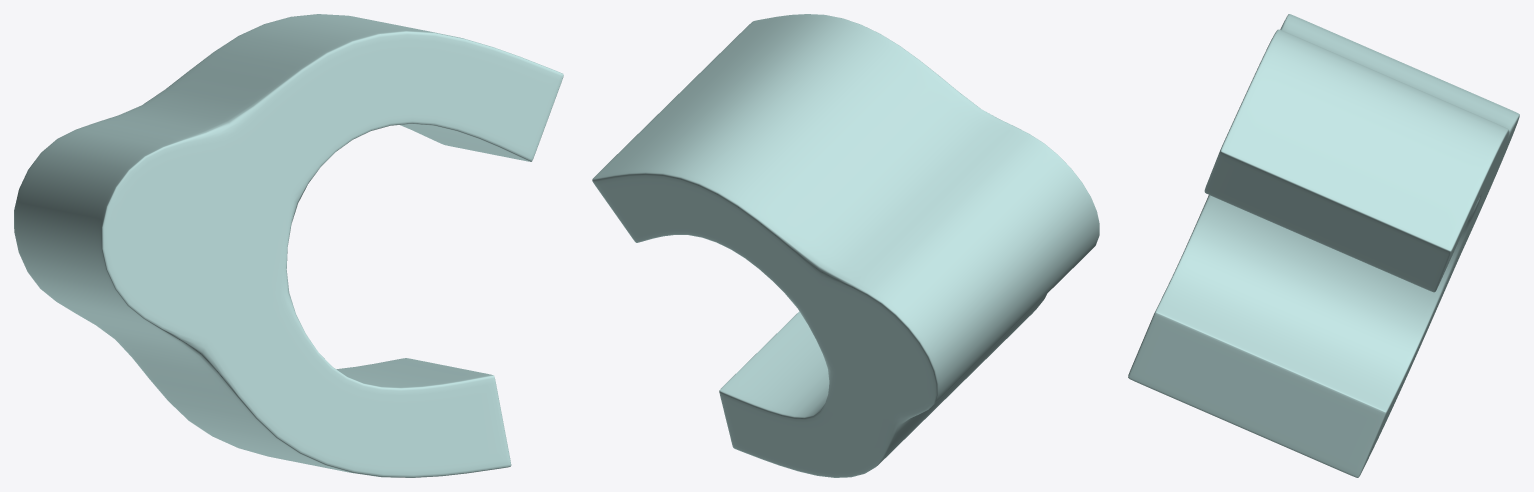
Rendered from hand.fbx.
3 views of the same model, side by side, from view 1: azimuth 30°, elevation 25°; view 2: azimuth 150°, elevation 25°; view 3: azimuth 270°, elevation 25° (orthographic). The views are drawn at different scales.
Visible parts, largest first — view 1: hand1; view 2: hand1; view 3: hand1.
Part boxes in pixels (bbox=[...]): hand1: bbox=[14, 14, 563, 477]; hand1: bbox=[592, 14, 1099, 477]; hand1: bbox=[1128, 14, 1519, 477].
Size of the model in its own units: 3.37 by 3.2 by 2.86.
